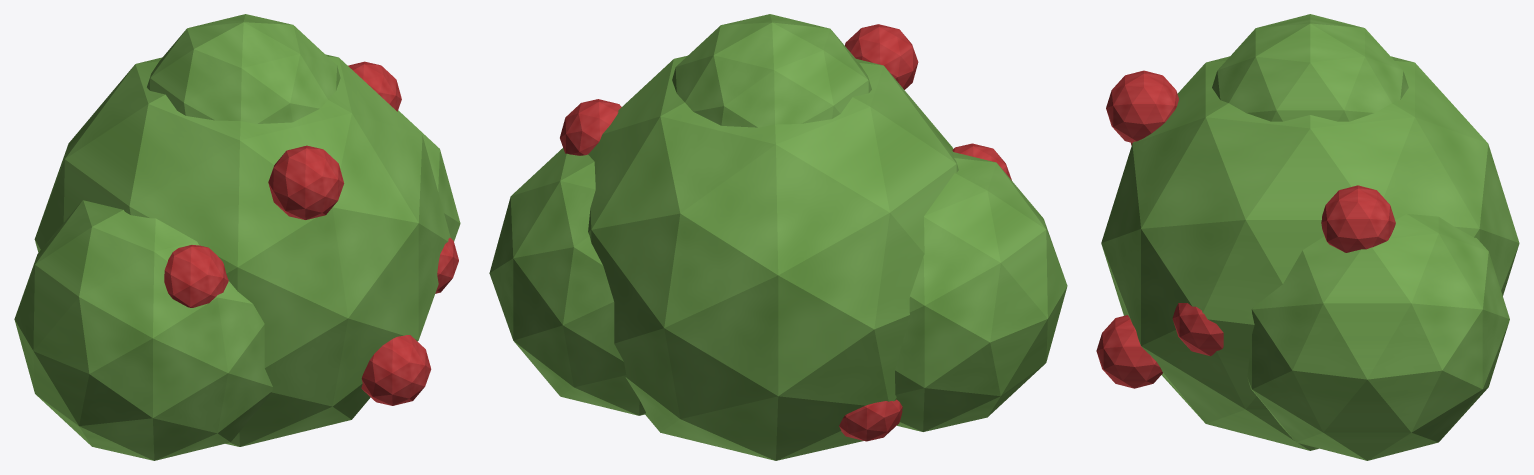
File: bessenstruik.glb
3 renders of one model, left to right at view 1: azimuth 30°, elevation 25°; view 2: azimuth 150°, elevation 25°; view 3: azimuth 270°, elevation 25°, orthographic. The views are drawn at different scales.
Visible parts, largest first — view 1: world; view 2: world; view 3: world.
Part boxes in pixels (left/top/right/bottom): world: left=14, top=14, right=460, bottom=460; world: left=489, top=14, right=1067, bottom=460; world: left=1096, top=14, right=1519, bottom=460.
Size of the model in its own units: 1.19 by 1 by 0.9368.
1 material, 1 textured.
